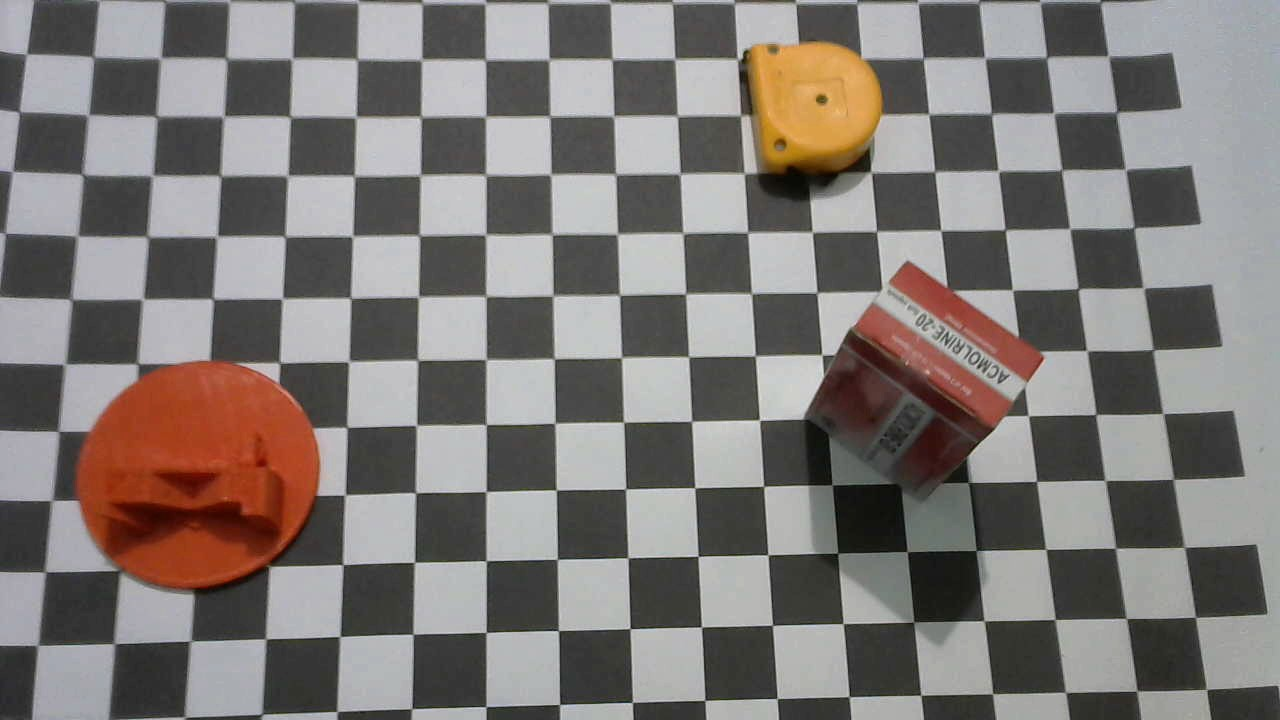blue: (737, 41, 884, 182)
green: (71, 361, 322, 590)
red: (806, 263, 1044, 500)
